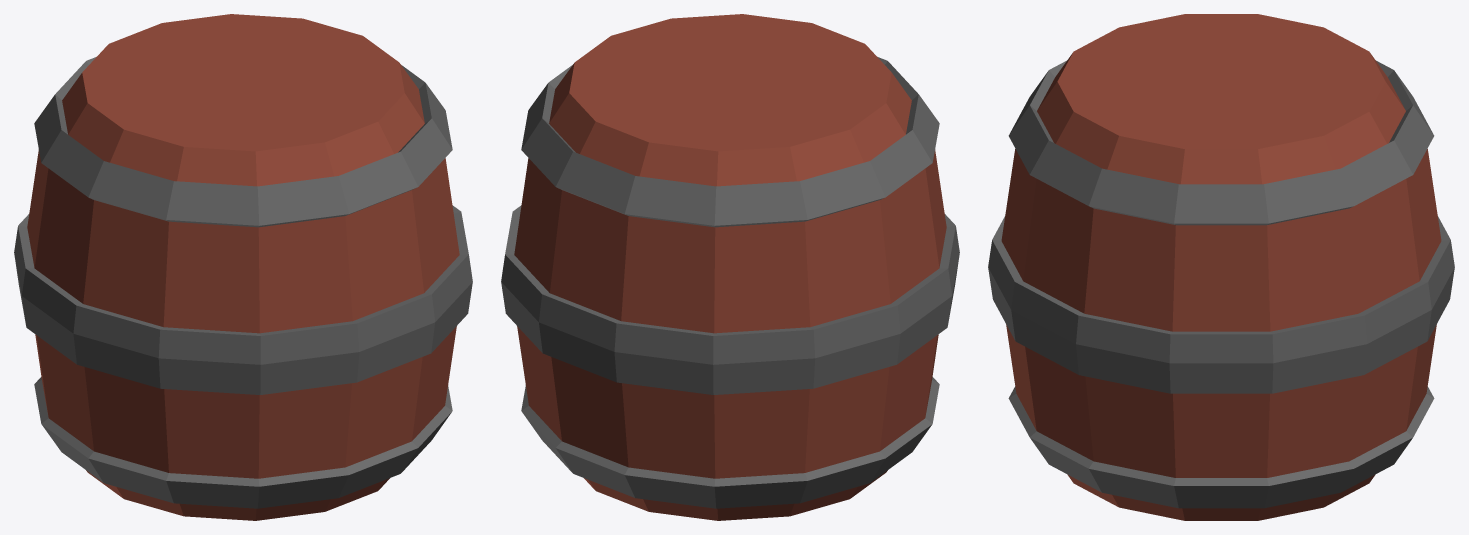
File: barrel.fbx
3 views of the same model, side by side, from view 1: azimuth 30°, elevation 25°; view 2: azimuth 150°, elevation 25°; view 3: azimuth 270°, elevation 25° (orthographic).
Visible parts, largest first — view 1: Cylinder; view 2: Cylinder; view 3: Cylinder.
Part boxes in pixels (bbox=[...]): Cylinder: bbox=[14, 14, 472, 520]; Cylinder: bbox=[501, 14, 959, 520]; Cylinder: bbox=[988, 14, 1454, 520].
Bounding box in the file's own units: 222 × 200 × 228.
